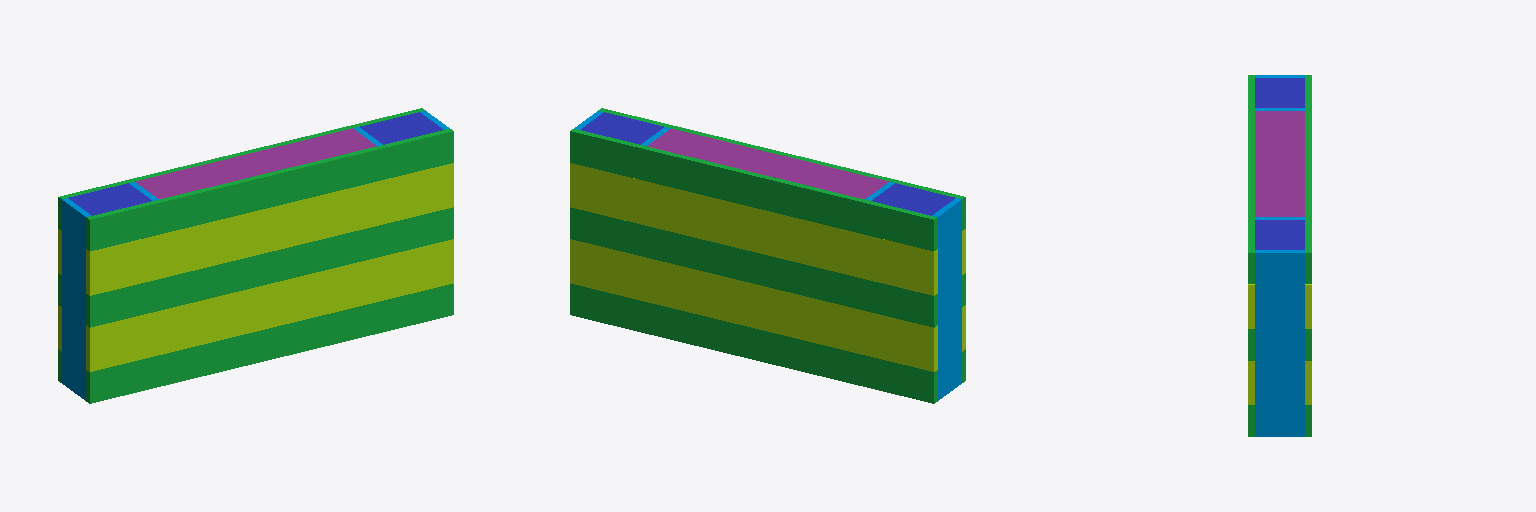
Rendered from assembled.obj.
3 renders of one model, left to right at view 1: azimuth 30°, elevation 25°; view 2: azimuth 150°, elevation 25°; view 3: azimuth 270°, elevation 25°, orthographic.
Visible parts, largest first — view 1: Object.17, Object.16, Object.13, Object.15, Object.14, Object.8, Object.9, Object.7, Object.10, Object.1; view 2: Object.4, Object.5, Object.1, Object.2, Object.3, Object.8, Object.9, Object.10, Object.7, Object.13; view 3: Object.6, Object.8, Object.7, Object.10, Object.1, Object.13.
Part boxes in pixels (bbox=[...]): Object.17: bbox=[86, 163, 453, 295]; Object.16: bbox=[86, 239, 453, 371]; Object.13: bbox=[86, 129, 453, 250]; Object.15: bbox=[86, 284, 453, 403]; Object.14: bbox=[86, 207, 453, 327]; Object.8: bbox=[135, 128, 376, 198]; Object.9: bbox=[62, 198, 91, 400]; Object.7: bbox=[360, 112, 443, 144]; Object.10: bbox=[69, 183, 151, 215]; Object.1: bbox=[58, 108, 425, 230]; Object.4: bbox=[570, 239, 937, 371]; Object.5: bbox=[570, 163, 937, 295]; Object.1: bbox=[570, 129, 937, 250]; Object.2: bbox=[570, 207, 937, 327]; Object.3: bbox=[570, 284, 937, 403]; Object.8: bbox=[647, 128, 888, 198]; Object.9: bbox=[932, 198, 961, 400]; Object.10: bbox=[872, 183, 954, 215]; Object.7: bbox=[581, 112, 663, 144]; Object.13: bbox=[598, 108, 965, 230]; Object.6: bbox=[1255, 250, 1304, 436]; Object.8: bbox=[1255, 111, 1304, 216]; Object.7: bbox=[1255, 220, 1304, 249]; Object.10: bbox=[1255, 78, 1304, 107]; Object.1: bbox=[1305, 75, 1311, 283]; Object.13: bbox=[1248, 75, 1254, 283].
Size of the model in its own units: 0.512 by 0.2475 by 0.0768.